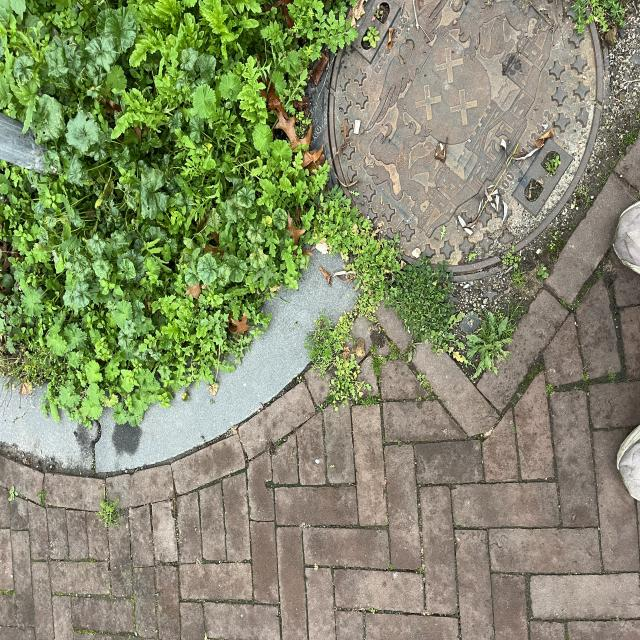pavement: (2, 207, 176, 640)
plants: (167, 1, 479, 468)
weedling: (227, 305, 464, 515)
